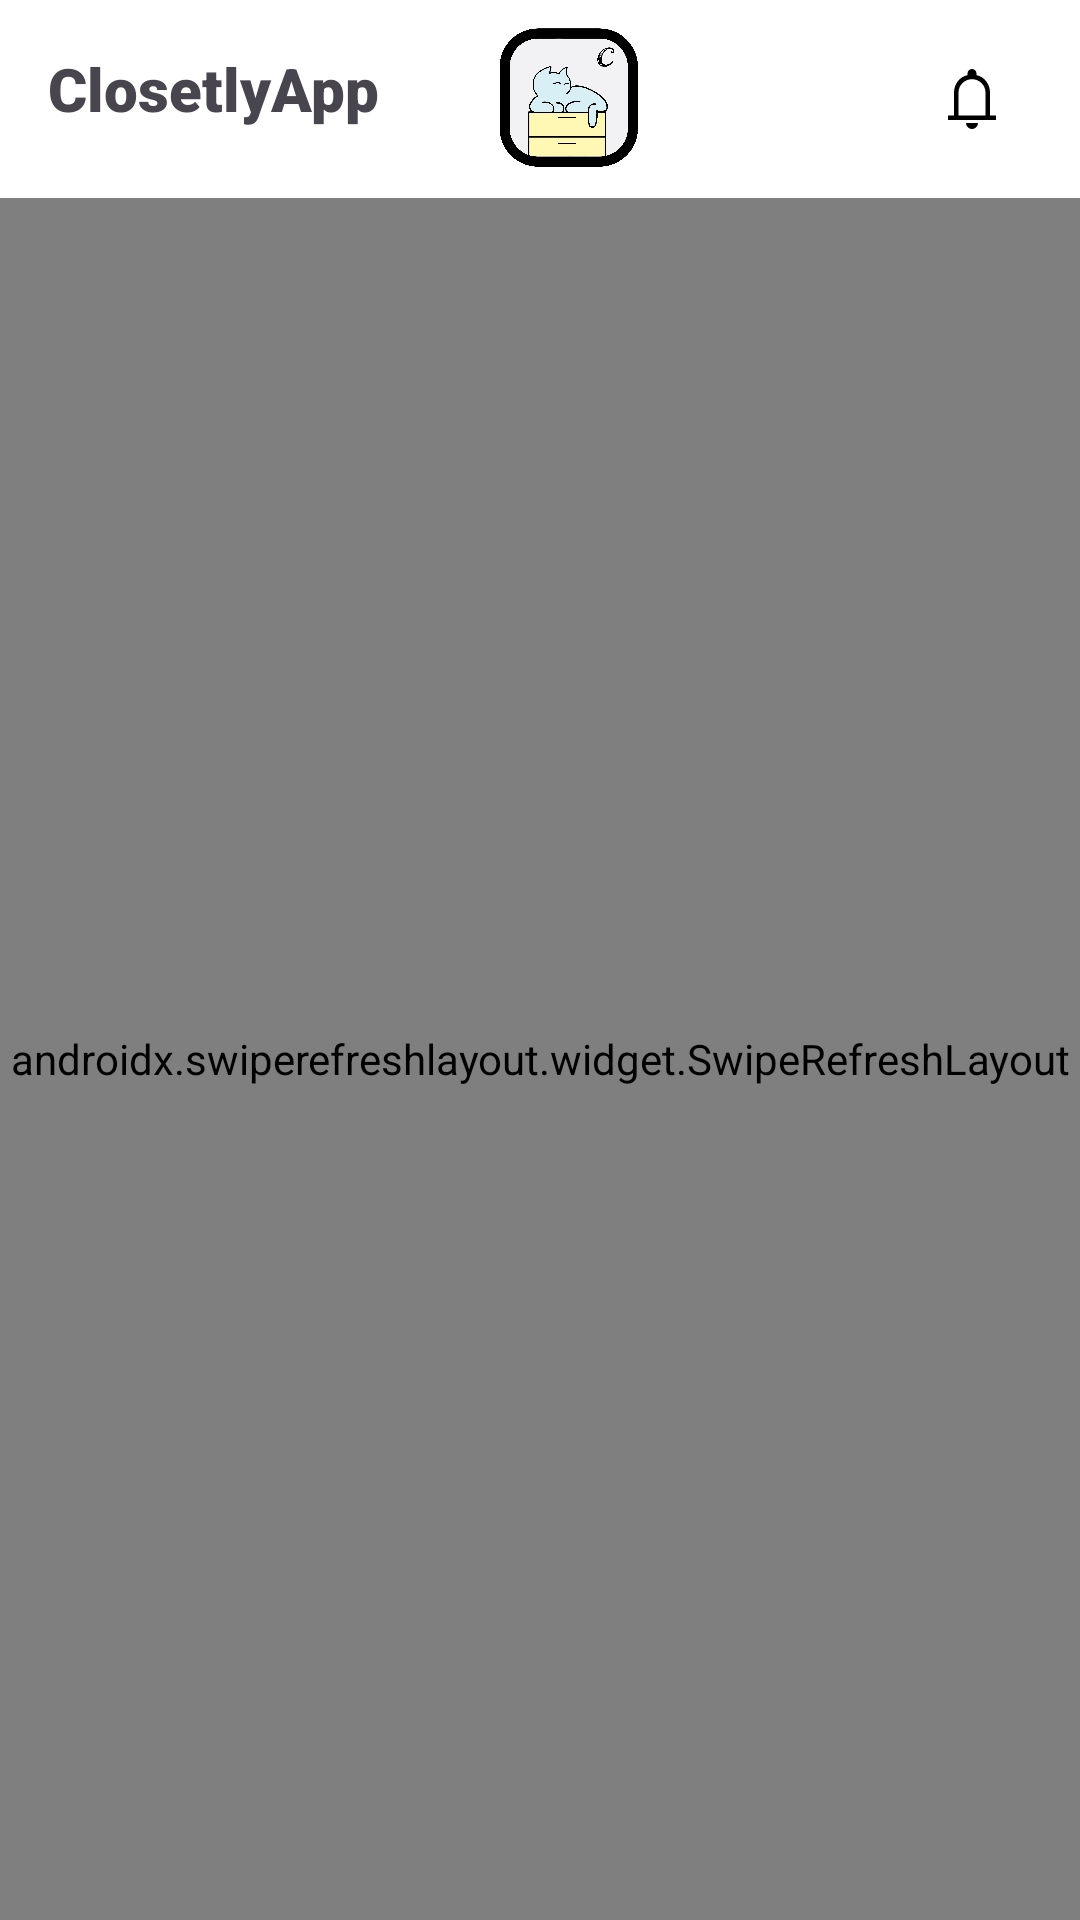

Screen size 1080w x 1920h. Icon name, then its box in pixels as (x1, y1, x2, y2):
notifications: (948, 69, 996, 129)
